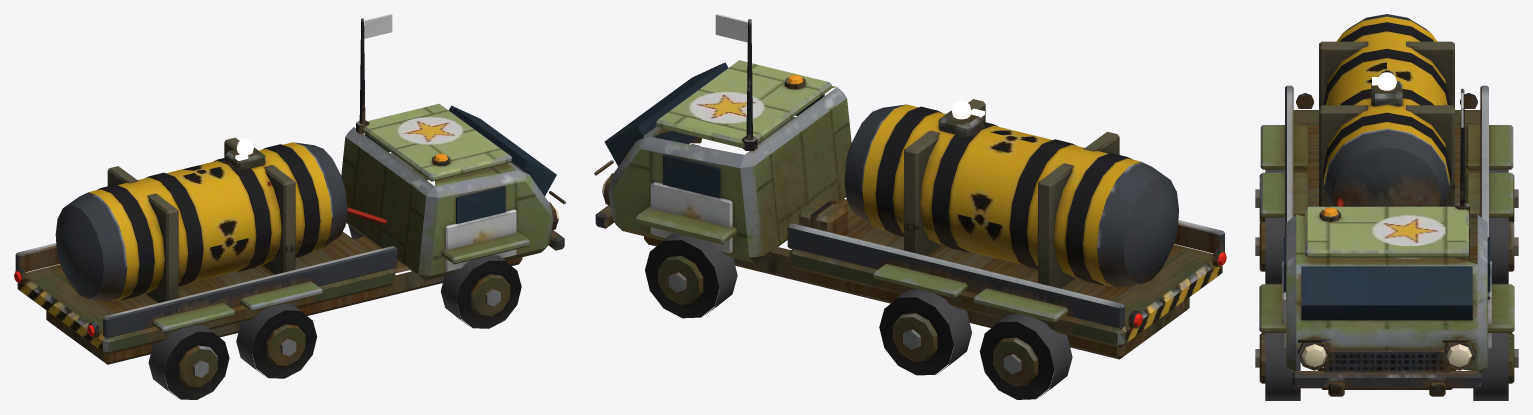
The model's file is dtrk.soviet.glb.
The picture shows the model from 3 angles, left to right: view 1: azimuth 30°, elevation 25°; view 2: azimuth 150°, elevation 25°; view 3: azimuth 270°, elevation 25°; orthographic projection. The views are drawn at different scales.
Visible parts, largest first — view 1: root_mesh, device_mesh; view 2: root_mesh, device_mesh; view 3: root_mesh, device_mesh.
Boxes of the visible parts, bbox=[...] form: root_mesh: bbox=[14, 14, 565, 399]; device_mesh: bbox=[55, 137, 347, 302]; root_mesh: bbox=[594, 14, 1226, 399]; device_mesh: bbox=[844, 99, 1178, 288]; root_mesh: bbox=[1255, 85, 1518, 400]; device_mesh: bbox=[1319, 14, 1454, 206].
Bounding box in the file's own units: 0.9803 × 0.502 × 0.418.
Materials: 4 (1 with a texture image).
